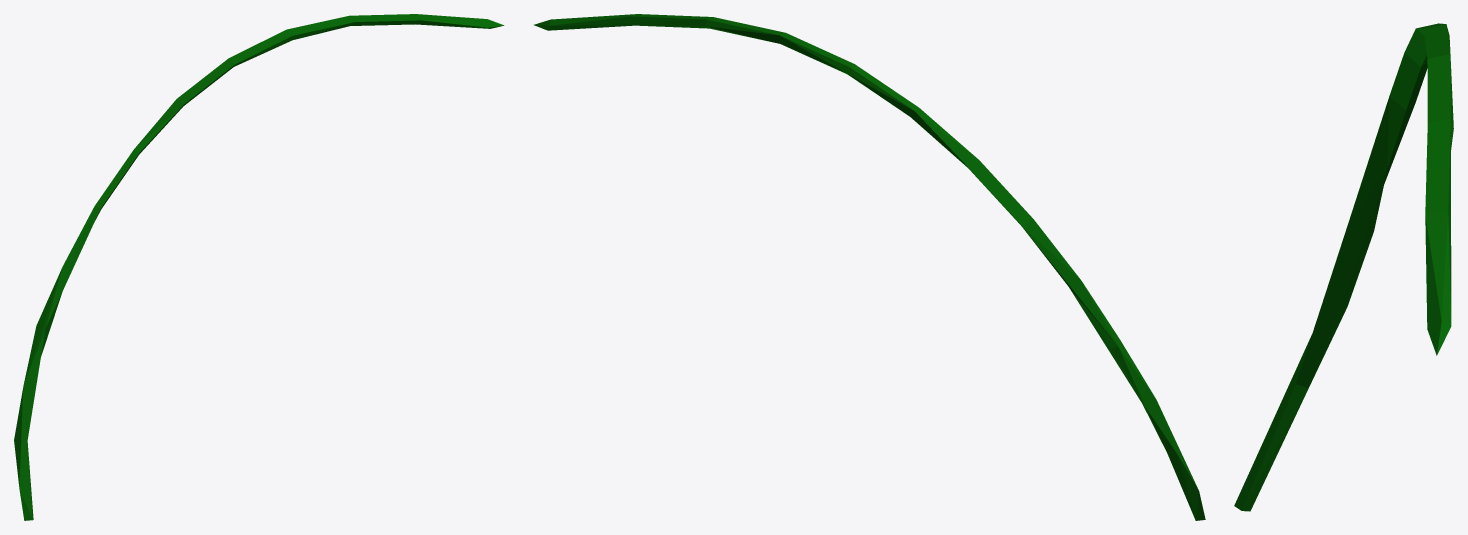
The model's file is Vegetation_Modular_New_Tropical_Frond_Branch_01.FBX.
The picture shows the model from 3 angles, left to right: view 1: azimuth 30°, elevation 25°; view 2: azimuth 150°, elevation 25°; view 3: azimuth 270°, elevation 25°; orthographic projection. The views are drawn at different scales.
Parts seen in each view (by area): view 1: Vegetation_Modular_New_Tropical_Frond_Branch_01; view 2: Vegetation_Modular_New_Tropical_Frond_Branch_01; view 3: Vegetation_Modular_New_Tropical_Frond_Branch_01.
Part boxes in pixels (x1,y1,x2,y2): Vegetation_Modular_New_Tropical_Frond_Branch_01: (14,14,504,520); Vegetation_Modular_New_Tropical_Frond_Branch_01: (534,14,1205,520); Vegetation_Modular_New_Tropical_Frond_Branch_01: (1234,23,1453,511).
Size of the model in its own units: 1786 by 1221 by 321.
